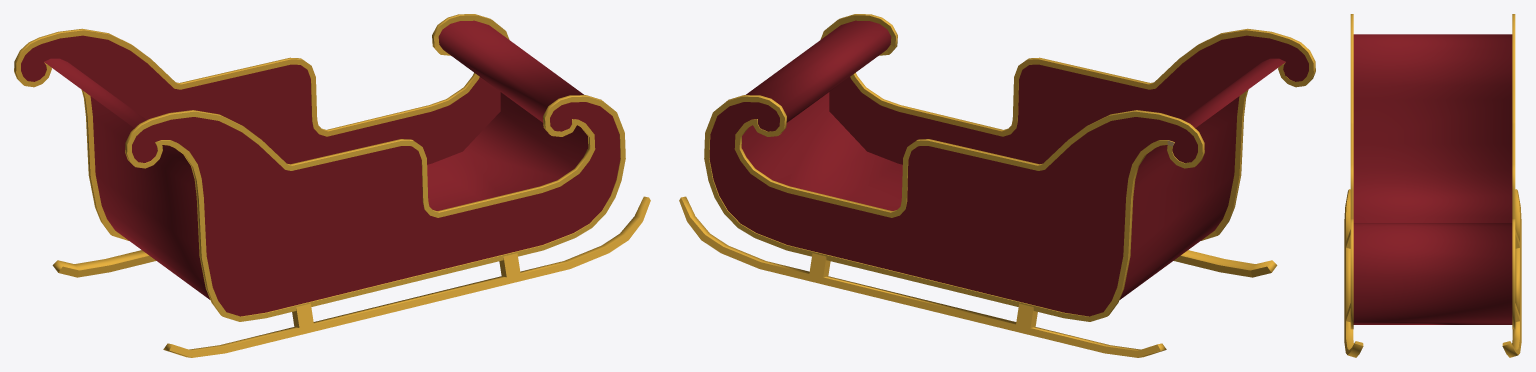
Rendered from plainSleigh.glb.
The picture shows the model from 3 angles, left to right: view 1: azimuth 30°, elevation 25°; view 2: azimuth 150°, elevation 25°; view 3: azimuth 270°, elevation 25°; orthographic projection. The views are drawn at different scales.
Visible parts, largest first — view 1: PlainSleigh; view 2: PlainSleigh; view 3: PlainSleigh.
Part boxes in pixels (x1=…): PlainSleigh: x1=14, y1=14, x2=650, y2=357; PlainSleigh: x1=679, y1=14, x2=1315, y2=357; PlainSleigh: x1=1344, y1=14, x2=1521, y2=357.
Size of what is drawn, in the model's own units: 5.16 by 2.36 by 2.06.
Materials: 3 (3 with a texture image).
